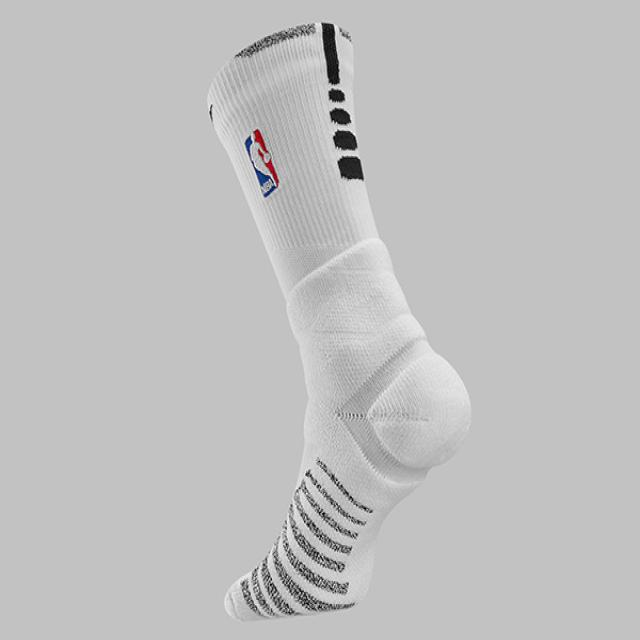sock: (206, 20, 471, 621)
